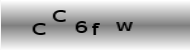6: (75, 20, 87, 34)
C: (30, 21, 48, 36), (52, 9, 67, 23)
f: (91, 21, 101, 36)
w: (114, 19, 134, 32)
